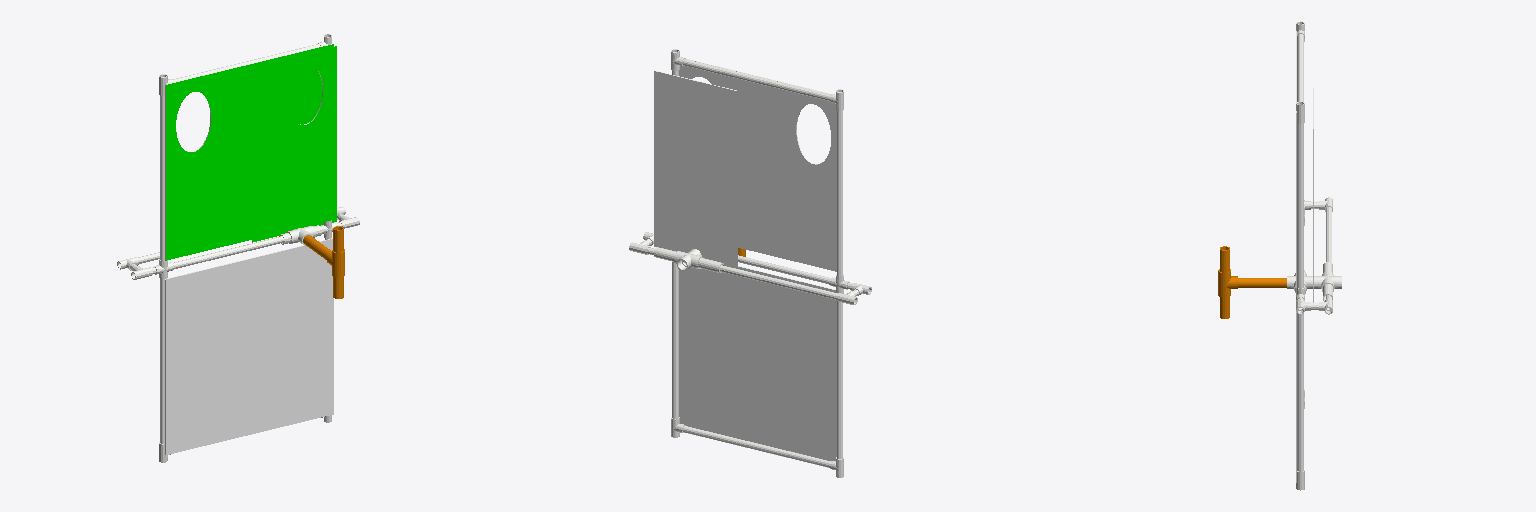
File: StakeThroughHeart.obj
The picture shows the model from 3 angles: view 1: azimuth 30°, elevation 25°; view 2: azimuth 150°, elevation 25°; view 3: azimuth 270°, elevation 25°; orthographic projection.
Parts seen in each view (by area): view 1: Solid1:11, Solid1:12, Solid1:22, Solid1:2, Solid1:6, Solid1:1; view 2: Solid1:11, Solid1:12, Solid1:22, Solid1:3, Solid1, Solid1:9, Solid1:6, Solid1:2, Solid1:21, Solid1:1; view 3: Solid1:7, Solid1:3.
Part boxes in pixels (bbox=[...]): Solid1:11: bbox=[165, 238, 333, 454]; Solid1:12: bbox=[165, 44, 333, 260]; Solid1:22: bbox=[252, 46, 336, 242]; Solid1:2: bbox=[160, 279, 164, 443]; Solid1:6: bbox=[160, 96, 164, 260]; Solid1:1: bbox=[173, 236, 283, 268]; Solid1:11: bbox=[679, 264, 836, 460]; Solid1:12: bbox=[679, 59, 836, 271]; Solid1:22: bbox=[654, 70, 737, 266]; Solid1:3: bbox=[672, 262, 678, 418]; Solid1: bbox=[682, 426, 830, 467]; Solid1:9: bbox=[682, 59, 830, 100]; Solid1:6: bbox=[837, 111, 842, 275]; Solid1:2: bbox=[837, 301, 842, 458]; Solid1:21: bbox=[647, 248, 837, 299]; Solid1:1: bbox=[738, 255, 830, 283]; Solid1:7: bbox=[1297, 123, 1303, 288]; Solid1:3: bbox=[1297, 313, 1303, 471].
Bounding box in the file's own units: 32.06 × 52.56 × 15.24.